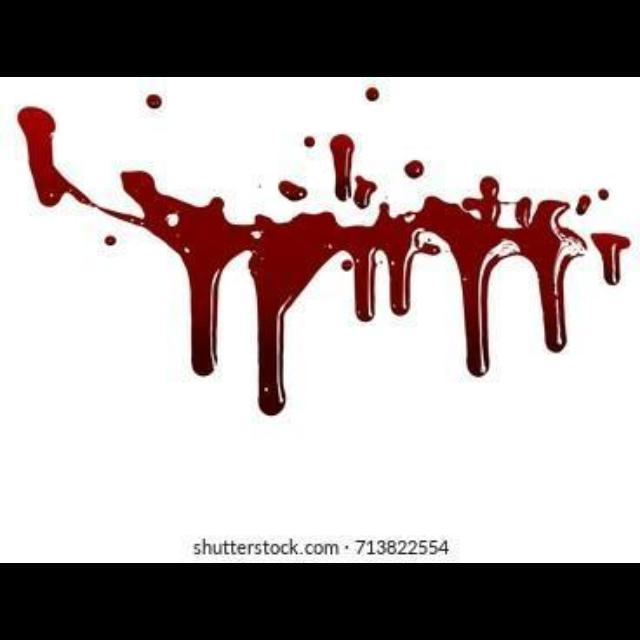blood: (17, 108, 588, 416), (330, 134, 377, 208), (594, 234, 631, 285), (280, 181, 308, 201), (405, 160, 426, 179), (577, 195, 593, 215), (146, 94, 160, 108), (367, 87, 381, 100), (304, 136, 317, 147), (600, 188, 610, 200), (104, 235, 115, 245)
